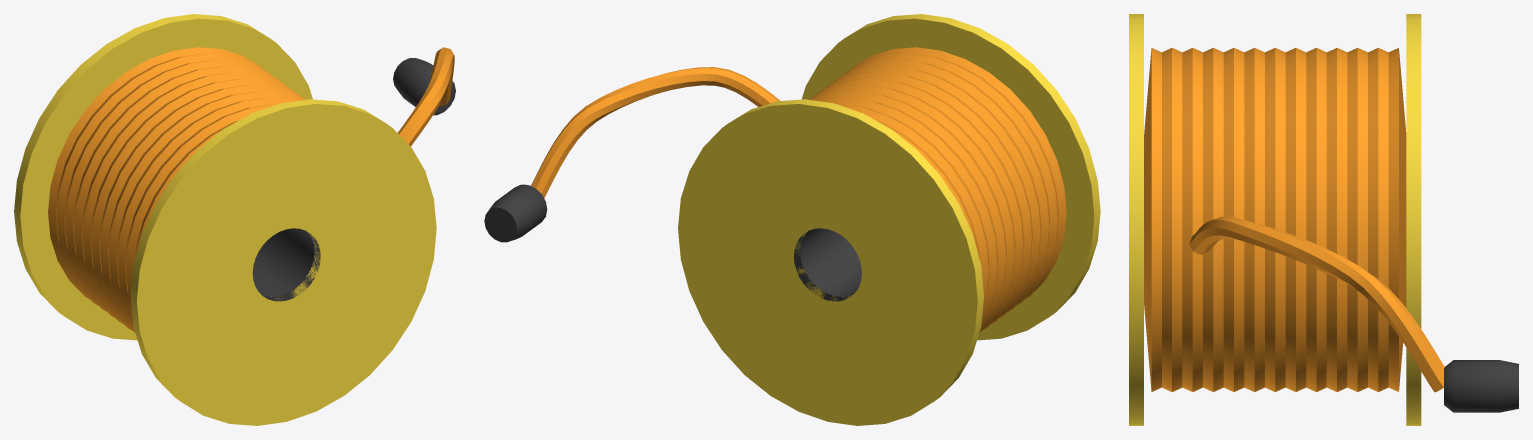
File: SM_CableSpool.fbx
3 views of the same model, side by side, from view 1: azimuth 30°, elevation 25°; view 2: azimuth 150°, elevation 25°; view 3: azimuth 270°, elevation 25° (orthographic). The views are drawn at different scales.
Parts seen in each view (by area): view 1: SM_CableSpool; view 2: SM_CableSpool; view 3: SM_CableSpool.
Part boxes in pixels (box(x1,y1,x2,y2)): SM_CableSpool: box(14, 14, 455, 425); SM_CableSpool: box(484, 14, 1100, 425); SM_CableSpool: box(1129, 14, 1518, 425).
Bounding box in the file's own units: 0.334 × 0.22 × 0.208.
